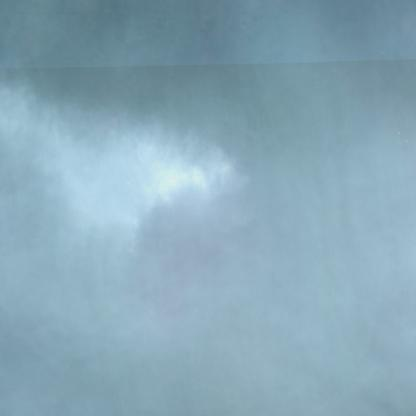fire: (124, 142, 272, 254)
